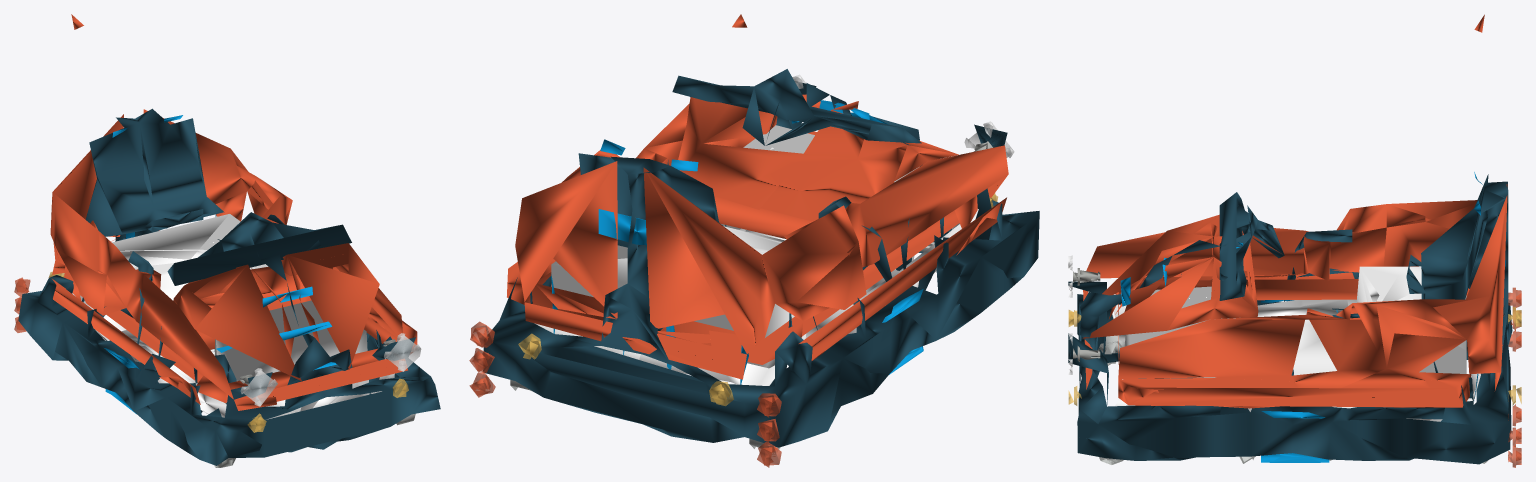
The model's file is dodgem_far.glb.
3 views of the same model, side by side, from view 1: azimuth 30°, elevation 25°; view 2: azimuth 150°, elevation 25°; view 3: azimuth 270°, elevation 25° (orthographic). The views are drawn at different scales.
Visible parts, largest first — view 1: Base (×8); view 2: Base (×7); view 3: Base (×9).
Boxes of the visible parts, box(x1,y1,x2,y2) form: Base (×8): box(14, 14, 440, 465); Base (×7): box(469, 14, 1039, 467); Base (×9): box(1068, 14, 1521, 467).
Bounding box in the file's own units: 259 × 347 × 396.
